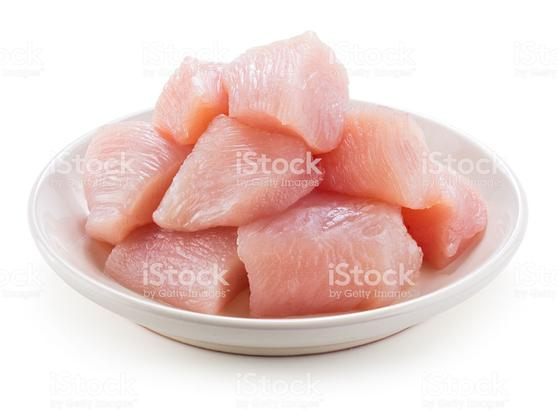chicken_fillet: (236, 193, 424, 309), (165, 117, 320, 224)
